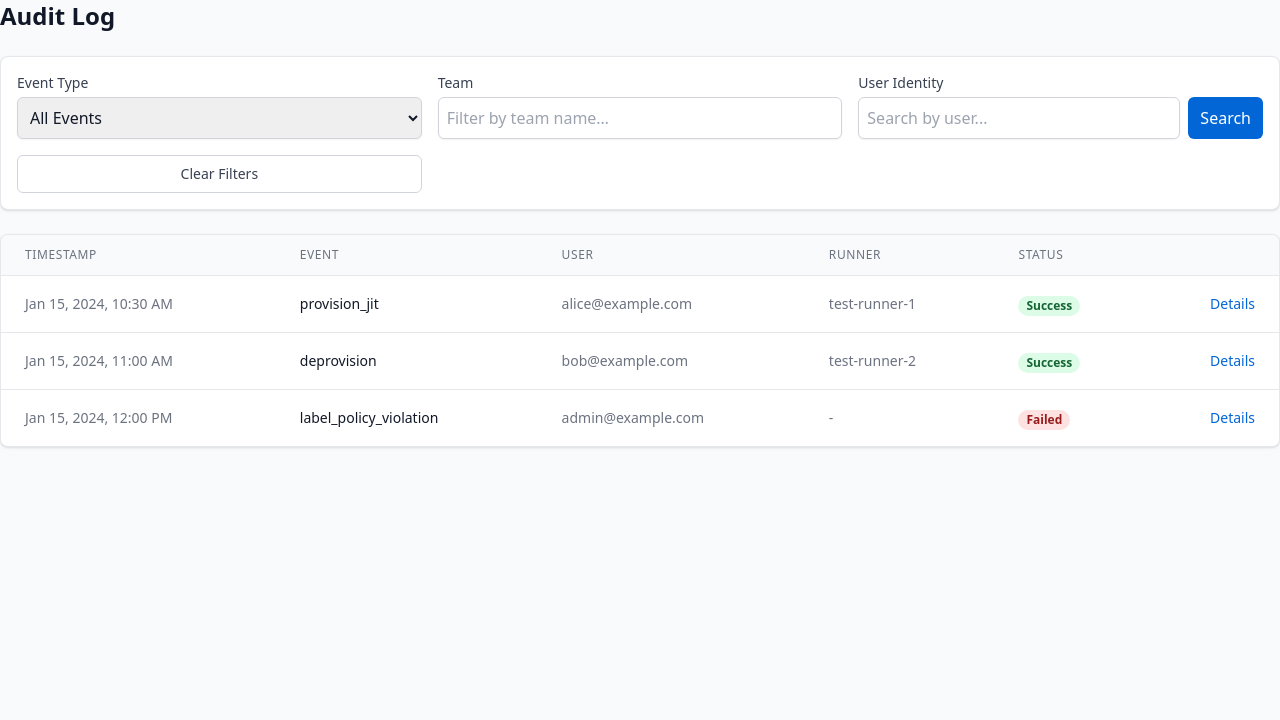
Test: AuditLog › opens detail modal when Details button is clicked
Click the button "Details" in the row of "Jan 15, 2024, 10:30 AM": (1232, 304) [1210,294,1255,314]
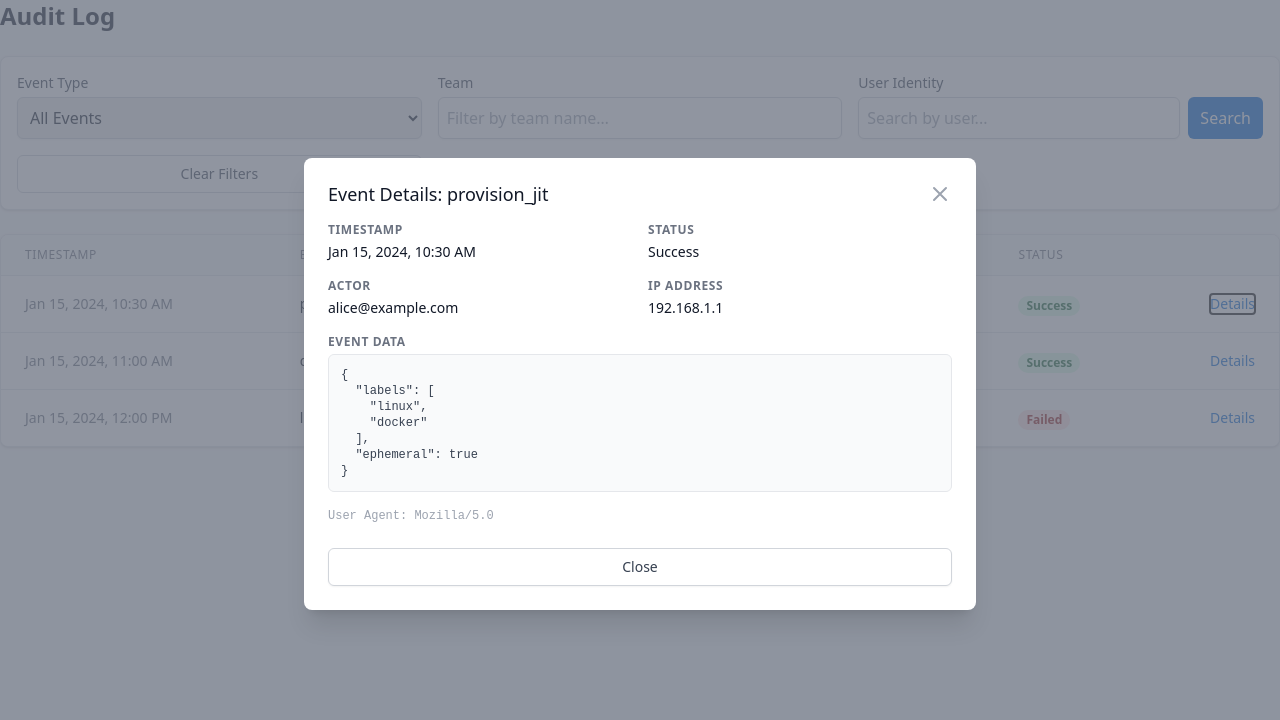
Check: the heading "Event Details: provision_jit" is shown, box [328,182,548,206]
Check: the text "192.168.1.1" is shown, box [648,298,723,317]
